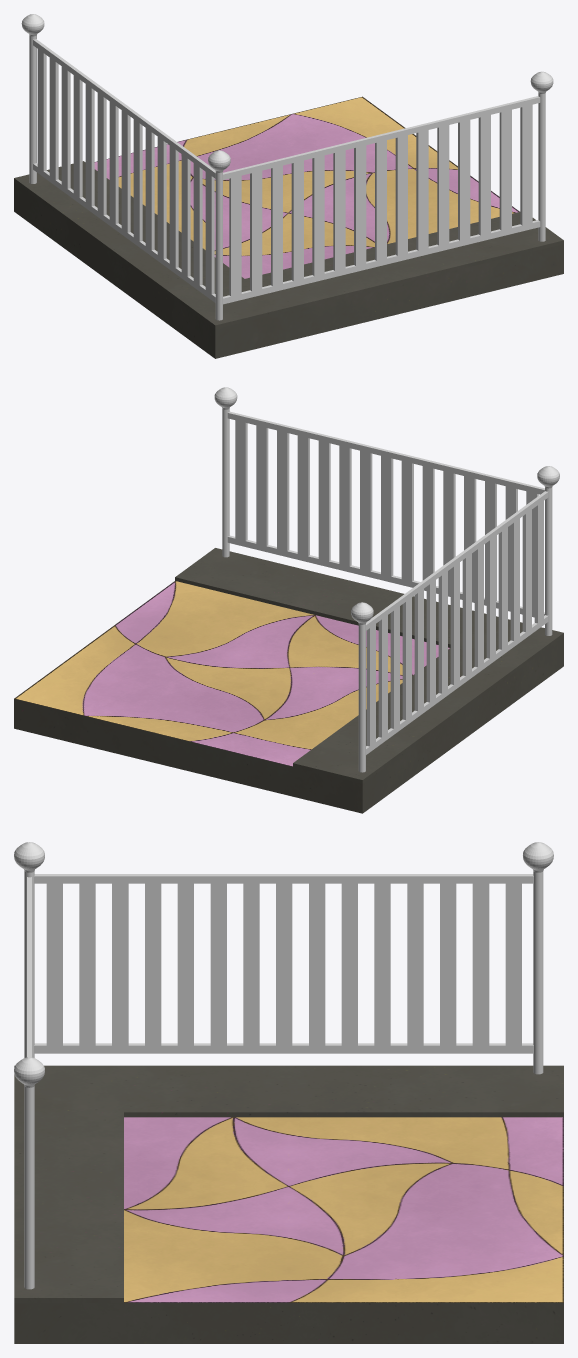
File: tile_corner.fbx
3 views of the same model, one above another, from view 1: azimuth 30°, elevation 25°; view 2: azimuth 150°, elevation 25°; view 3: azimuth 270°, elevation 25° (orthographic). The views are drawn at different scales.
Parts seen in each view (by area): view 1: Cube.005; view 2: Cube.005; view 3: Cube.005.
Boxes of the visible parts, x1,y1,x2,y2 form: Cube.005: [14, 14, 563, 358]; Cube.005: [14, 387, 563, 813]; Cube.005: [14, 842, 563, 1343].
Size of the model in its own units: 100 by 55.24 by 100.
